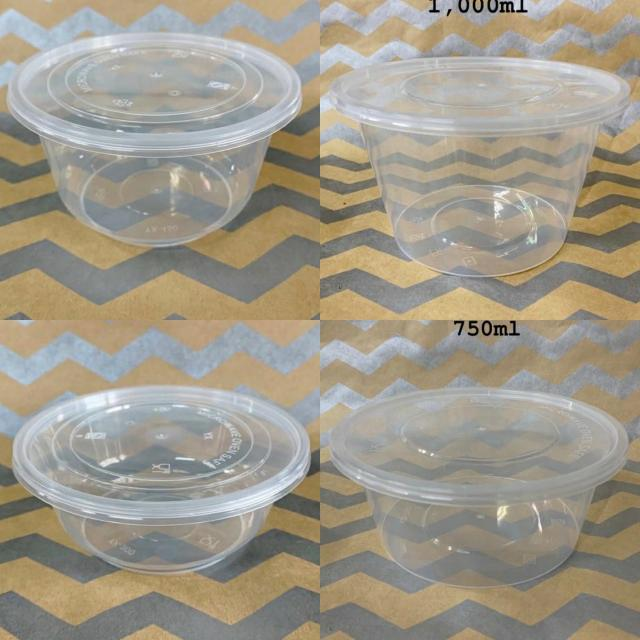Single-Use-Plastic: (330, 56, 630, 277), (8, 32, 301, 246), (331, 388, 629, 588), (12, 386, 310, 573)
